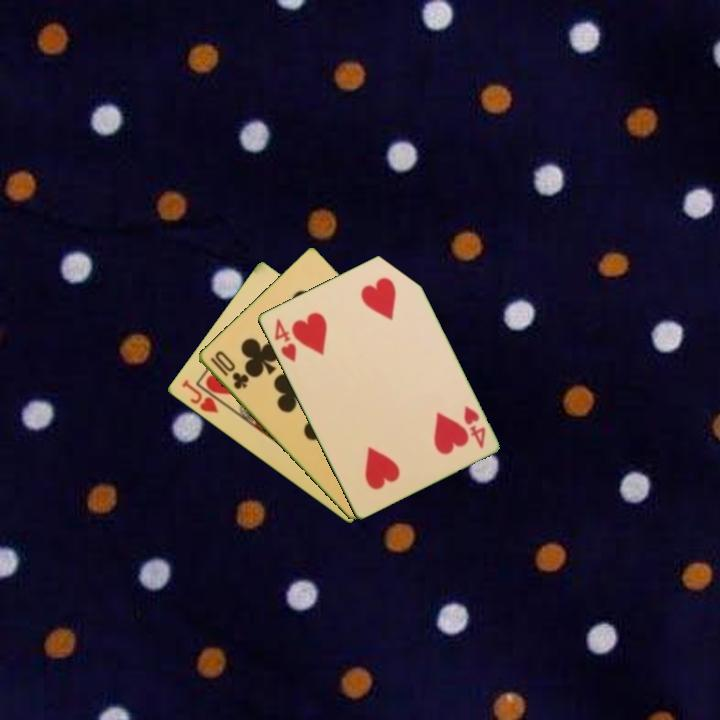10c: (206, 347, 252, 392)
4h: (270, 315, 299, 364), (460, 402, 488, 451)
Jh: (178, 376, 221, 416)
